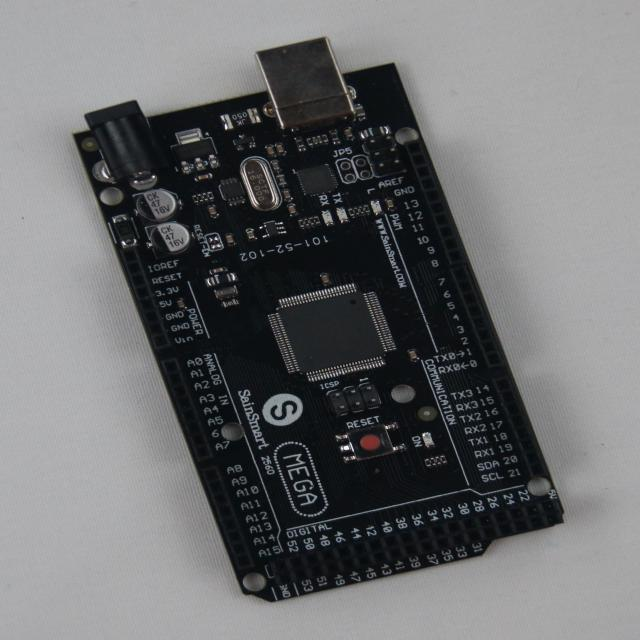Arduino Mega 2560 -Black-: (77, 39, 564, 602)
